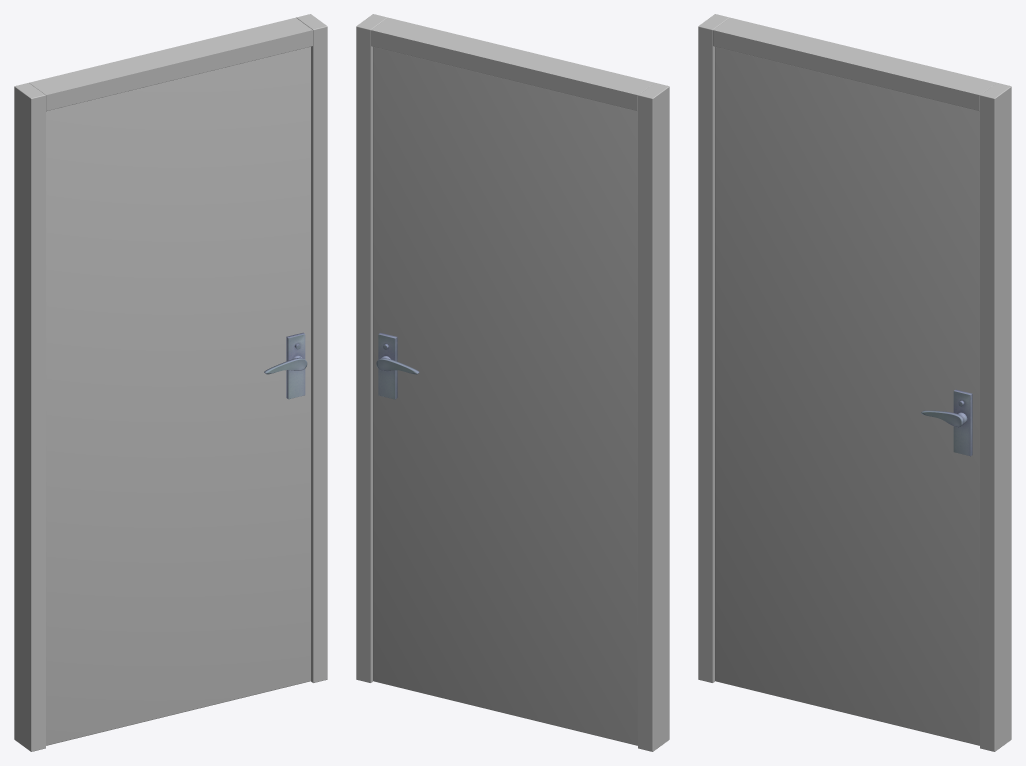
File: uploads_files_5825231_Door01.fbx
3 renders of one model, left to right at view 1: azimuth 30°, elevation 25°; view 2: azimuth 150°, elevation 25°; view 3: azimuth 330°, elevation 25°, orthographic.
Parts seen in each view (by area): view 1: Door01; view 2: Door01; view 3: Door01.
Part boxes in pixels (bbox=[...]): Door01: bbox=[14, 14, 327, 751]; Door01: bbox=[356, 14, 669, 751]; Door01: bbox=[698, 14, 1011, 751].
Bounding box in the file's own units: 100 × 210 × 17.12.
